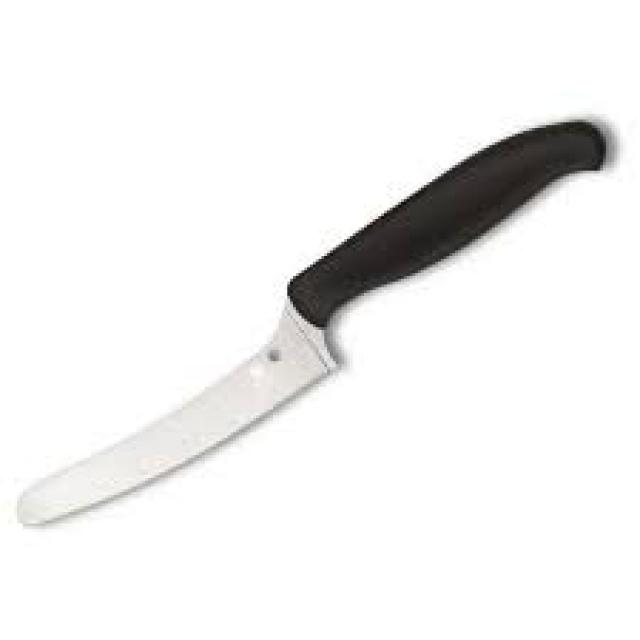Knife: (14, 117, 606, 526)
